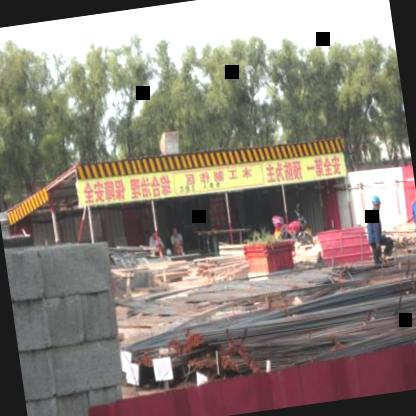helmet: (370, 192, 381, 209)
